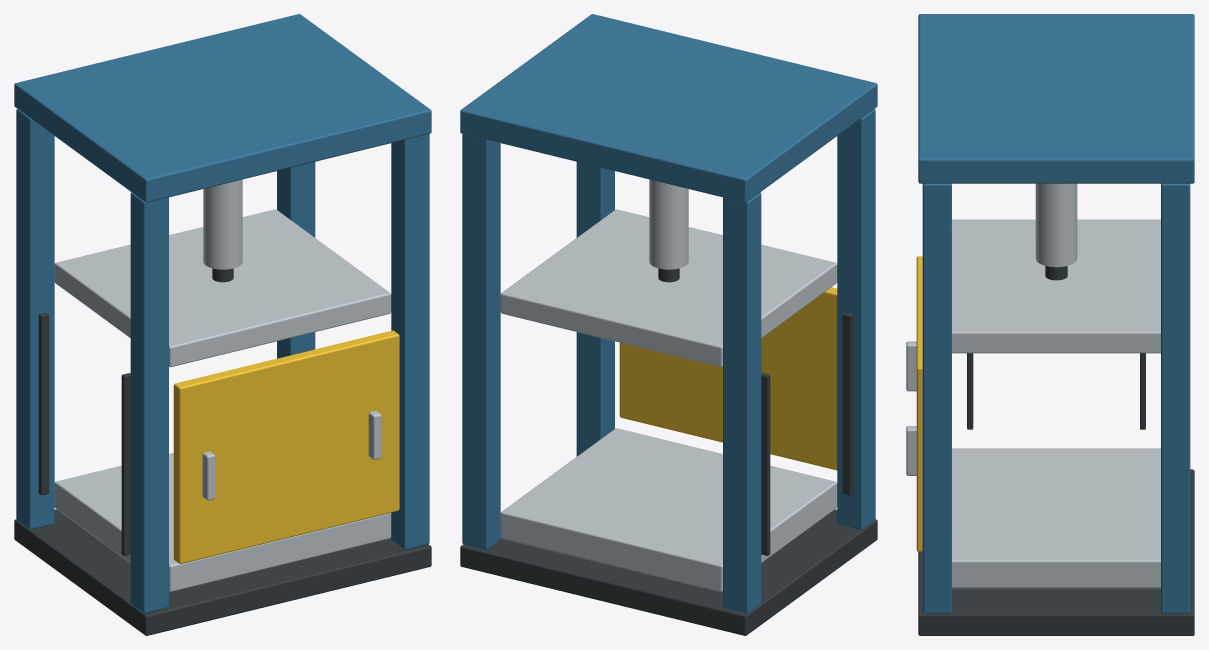
File: recycling-centre-and-material-sorting-vertical-baler-1d886c24__31126.glb
3 views of the same model, side by side, from view 1: azimuth 30°, elevation 25°; view 2: azimuth 150°, elevation 25°; view 3: azimuth 270°, elevation 25° (orthographic). The views are drawn at different scales.
Parts seen in each view (by area): view 1: vertical-baler; view 2: vertical-baler; view 3: vertical-baler.
Part boxes in pixels (bbox=[...]): vertical-baler: bbox=[14, 14, 431, 635]; vertical-baler: bbox=[460, 14, 877, 635]; vertical-baler: bbox=[906, 14, 1194, 635].
Bounding box in the file's own units: 2 × 3.05 × 1.67.
